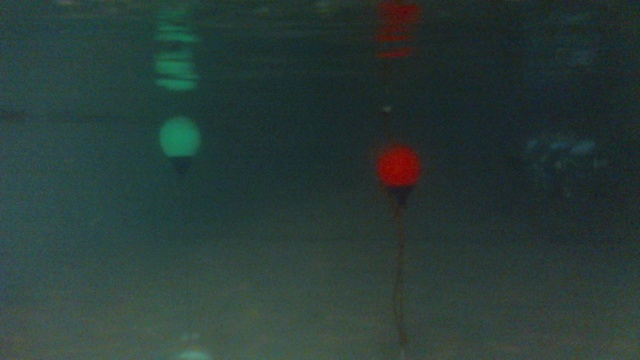buoy_green: (156, 111, 203, 177)
buoy_red: (377, 145, 421, 201)
